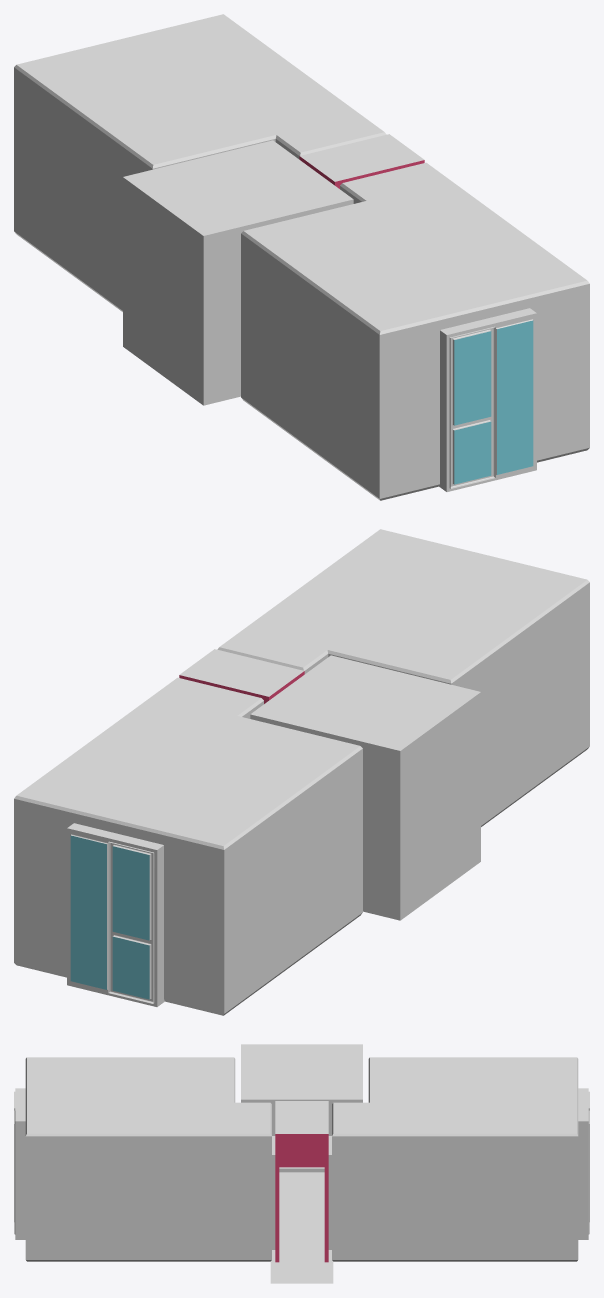
Rendered from room.fbx.
3 renders of one model, top to bottom at view 1: azimuth 30°, elevation 25°; view 2: azimuth 150°, elevation 25°; view 3: azimuth 270°, elevation 25°, orthographic. The views are drawn at different scales.
Visible parts, largest first — view 1: Cube; view 2: Cube; view 3: Cube.
Boxes of the visible parts, x1=… form: Cube: x1=14, y1=14, x2=589, y2=500; Cube: x1=14, y1=529, x2=589, y2=1015; Cube: x1=14, y1=1044, x2=589, y2=1283.
Size of the model in its own units: 504 by 271 by 1100.
